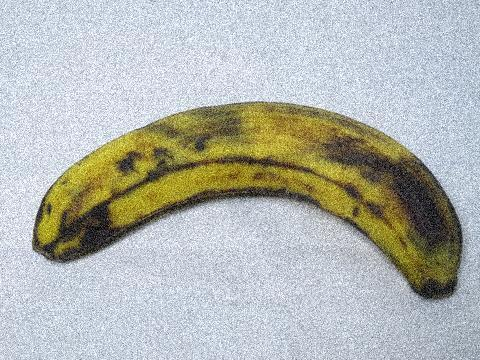overripe: (24, 92, 468, 310)
